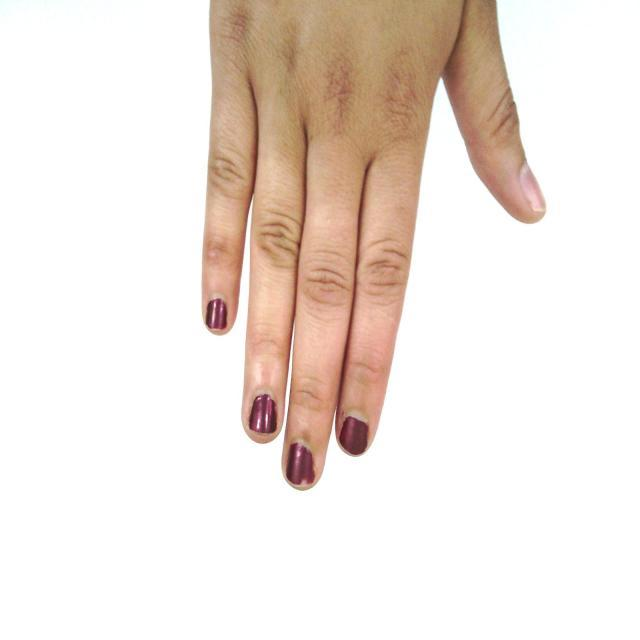Fingernail: (249, 388, 277, 434), (339, 413, 369, 455), (286, 441, 314, 485), (520, 165, 546, 211), (206, 297, 227, 329)
